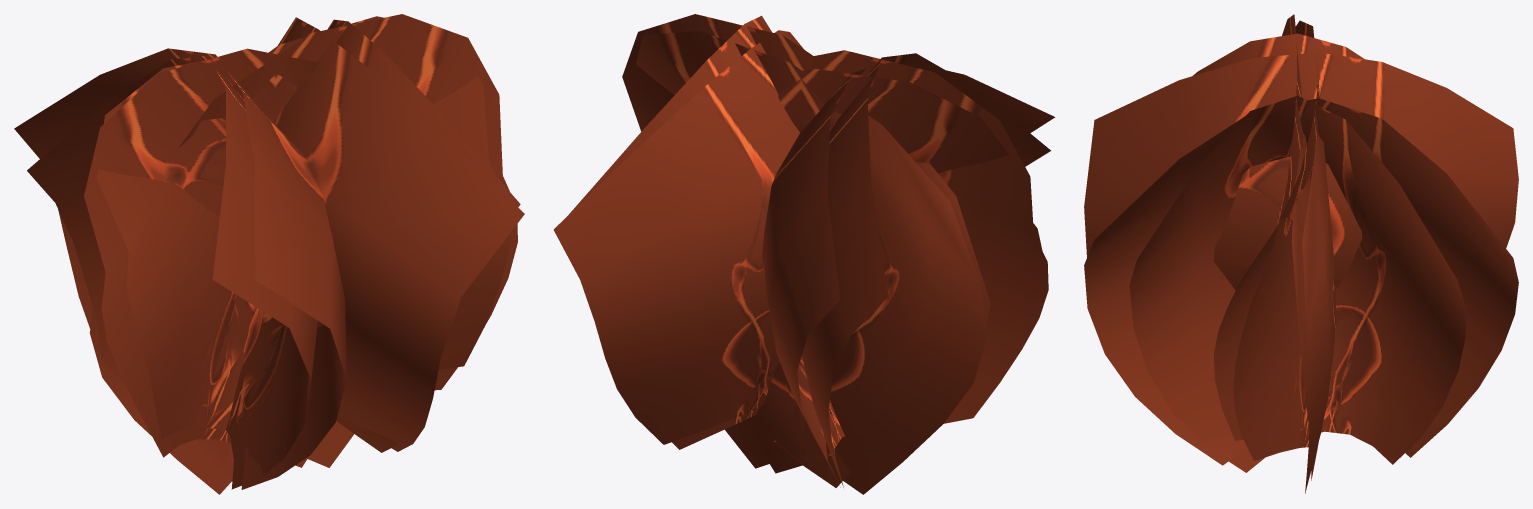
Rendered from BOSS_effect.FBX.
3 renders of one model, left to right at view 1: azimuth 30°, elevation 25°; view 2: azimuth 150°, elevation 25°; view 3: azimuth 270°, elevation 25°, orthographic. The views are drawn at different scales.
Parts seen in each view (by area): view 1: Group001, Group002; view 2: Group002, Group001; view 3: Group002, Group001.
Boxes of the visible parts, x1,y1,x2,y2 form: Group001: (14, 48, 353, 489); Group002: (89, 14, 524, 494); Group002: (553, 14, 990, 494); Group001: (724, 50, 1055, 487); Group002: (1084, 80, 1518, 472); Group001: (1084, 14, 1518, 493).
Bounding box in the file's own units: 2.46 × 2.52 × 2.45.
1 material, 1 textured.
